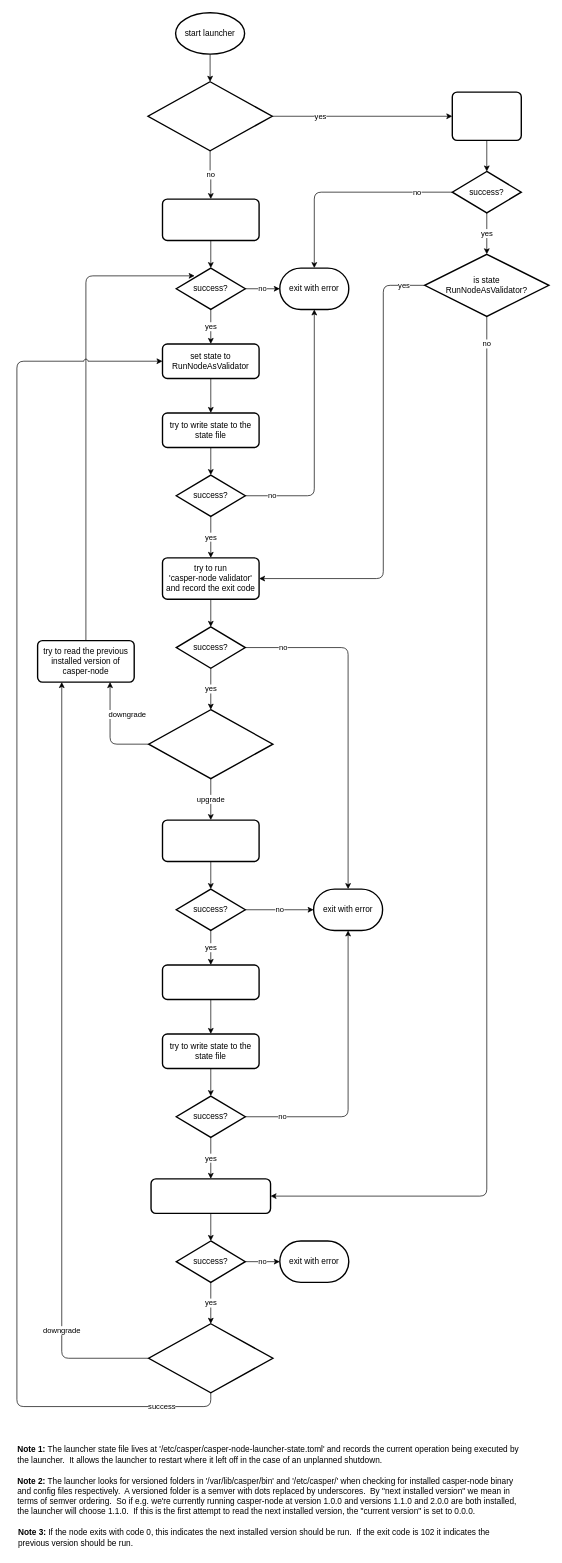
The diagram is 562 pixels wide and 1563 high, and some of its shapes have lost their labels. The shapes that lost their labels are listed below. From the top down, each one's box as (x1, y1, x2, y2) in pixels, then its label:
(147, 81, 273, 151): does the launcher state file exist? (see note 1)
(451, 91, 522, 141): try to read the contents of the state file to set launcher state
(161, 198, 259, 241): try to read the next installed version of casper-node (see note 2)
(148, 709, 273, 779): does exit code indicate upgrade or downgrade? (see note 3)
(161, 819, 259, 862): try to read the next installed version of casper-node
(161, 964, 259, 1000): set state to MigrateData
(150, 1178, 271, 1214): try to run 'casper-node migrate-data' and record the exit code
(148, 1323, 273, 1393): does exit code indicate success or downgrade?
